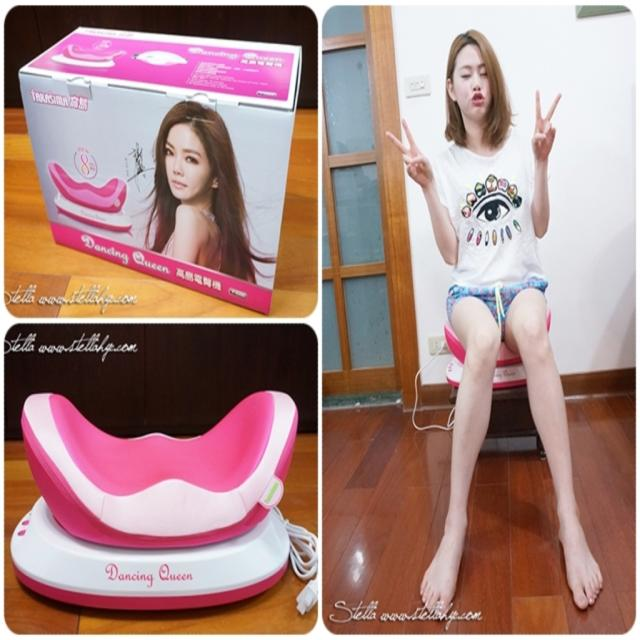Box: (24, 8, 297, 295)
